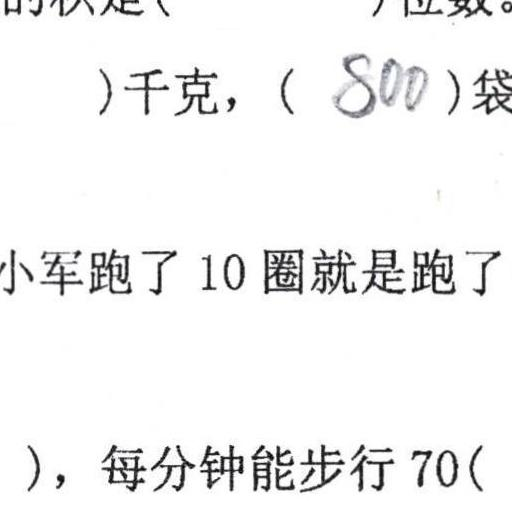ans: (328, 43, 428, 120)
